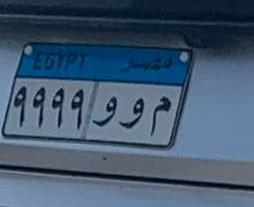9: (68, 85, 85, 129), (50, 83, 64, 131), (31, 85, 46, 128), (14, 84, 27, 127)
meem: (147, 93, 172, 140)
waw: (94, 94, 117, 132), (122, 93, 144, 131)
